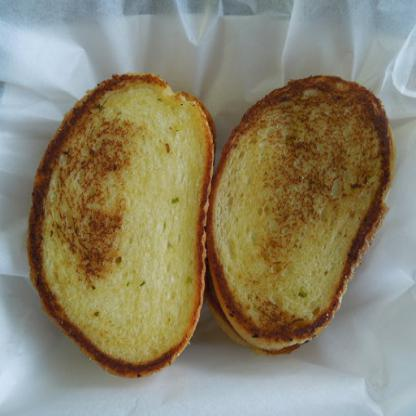toast bread: (29, 72, 207, 382), (209, 77, 400, 356)
